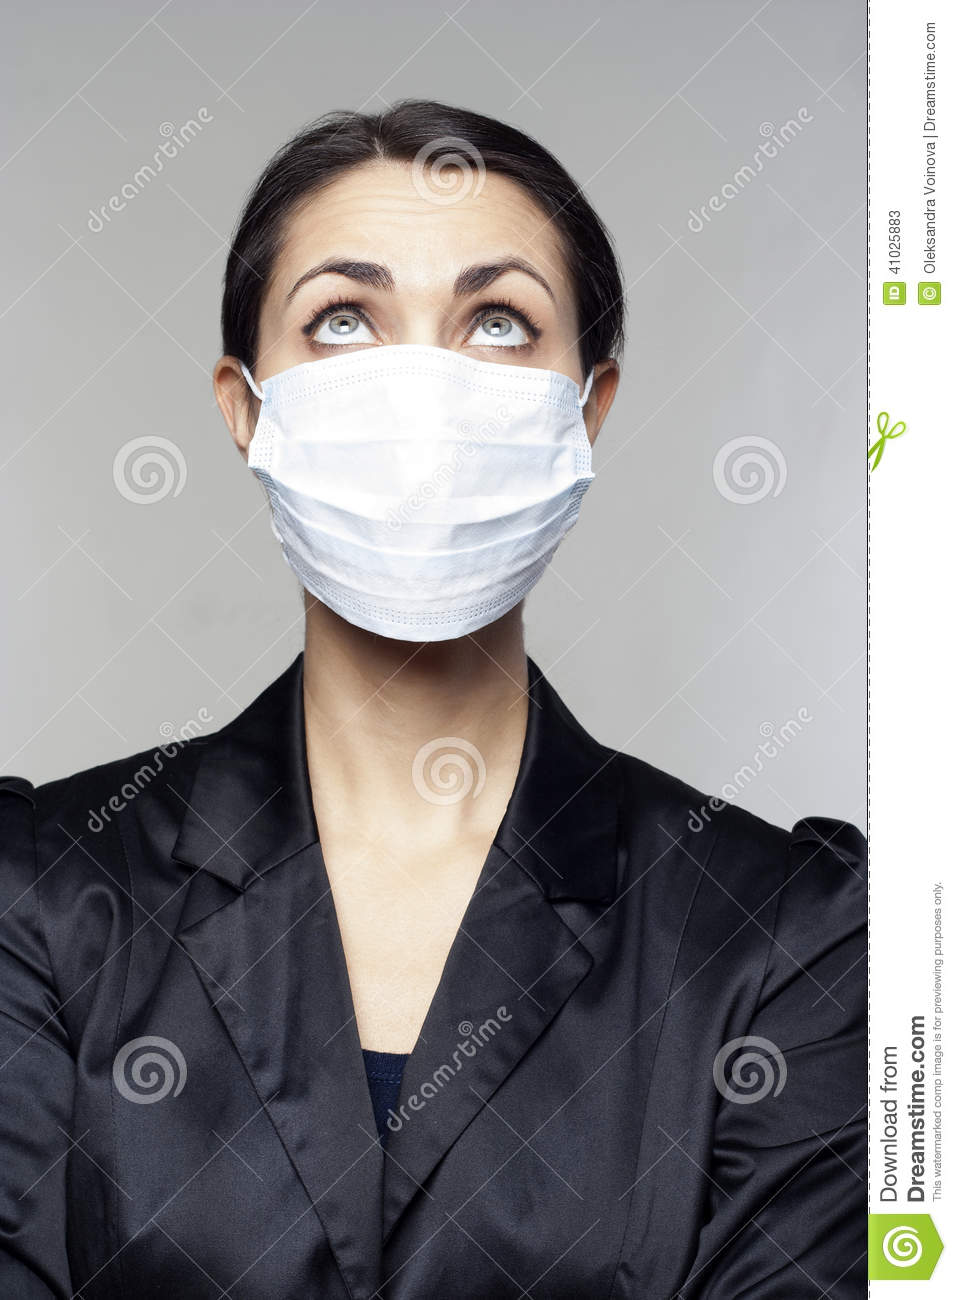mask: (243, 347, 593, 659)
